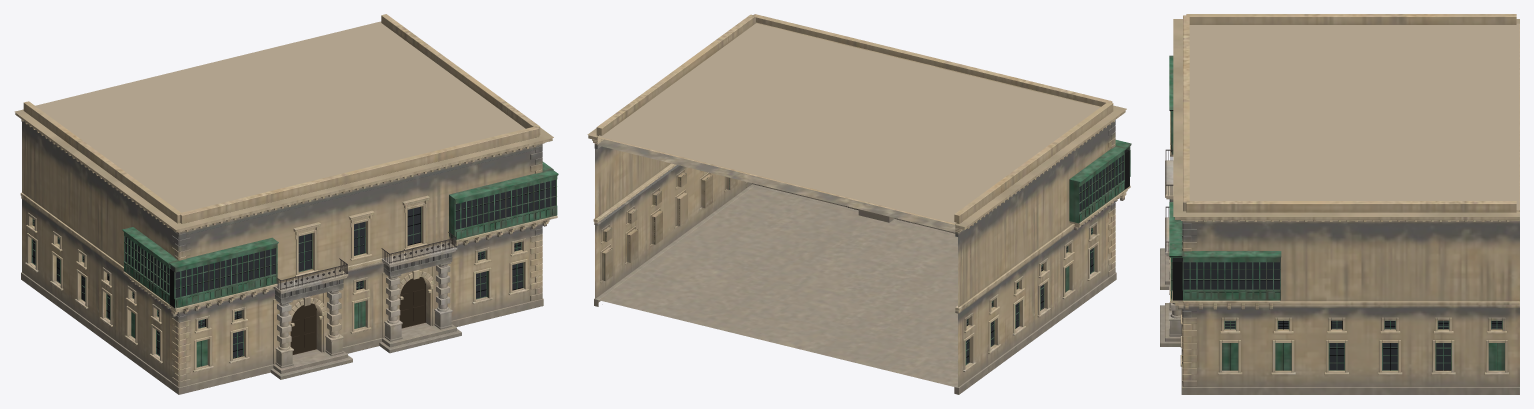
The model's file is palace-CYh__2UC.glb.
3 views of the same model, side by side, from view 1: azimuth 30°, elevation 25°; view 2: azimuth 150°, elevation 25°; view 3: azimuth 270°, elevation 25° (orthographic). The views are drawn at different scales.
Parts seen in each view (by area): view 1: palace, palace_roof, palace_flat; view 2: palace, palace_roof, palace_flat; view 3: palace, palace_roof, palace_flat.
Part boxes in pixels (box(x1,y1,x2,y2)): palace: box(14, 14, 558, 394); palace_roof: box(35, 21, 525, 212); palace_flat: box(32, 180, 555, 357); palace: box(587, 14, 1131, 394); palace_roof: box(598, 23, 1099, 223); palace_flat: box(611, 149, 1129, 363); palace: box(1160, 14, 1519, 394); palace_roof: box(1189, 23, 1519, 210); palace_flat: box(1165, 149, 1501, 369).
Size of the model in its own units: 42.46 by 18.75 by 32.05.
6 materials, 1 textured.
